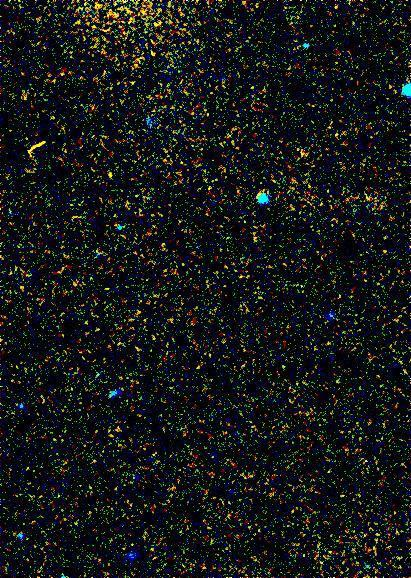star: (77, 361, 107, 391)
